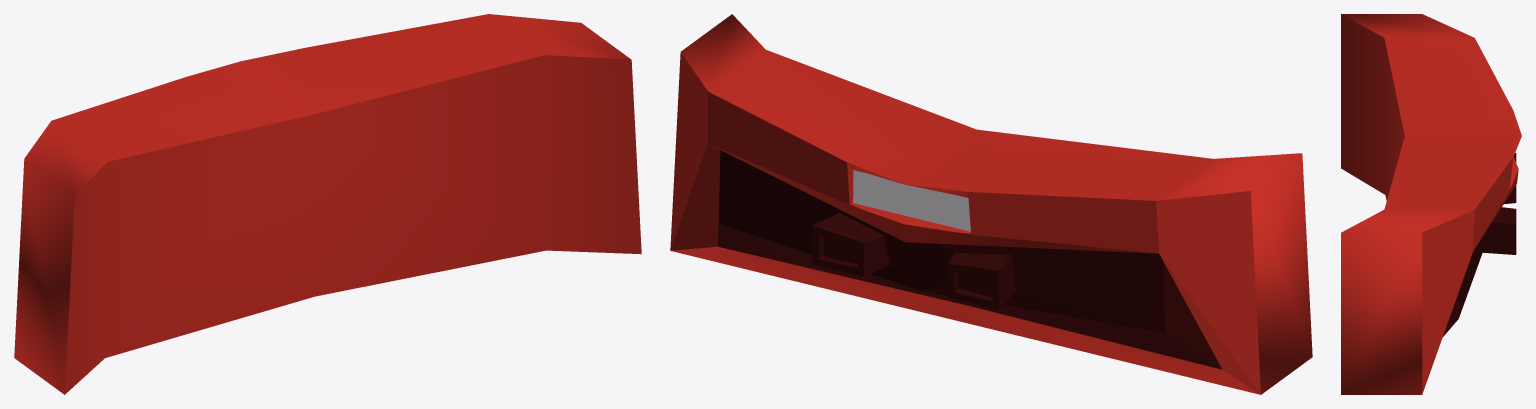
Rendered from bumper2.1.fbx.
3 views of the same model, side by side, from view 1: azimuth 30°, elevation 25°; view 2: azimuth 150°, elevation 25°; view 3: azimuth 270°, elevation 25° (orthographic). The views are drawn at different scales.
Visible parts, largest first — view 1: bumper; view 2: bumper; view 3: bumper.
Boxes of the visible parts, x1,y1,x2,y2 form: bumper: (14,14,641,394); bumper: (670,14,1312,394); bumper: (1341,14,1521,394).
Size of the model in its own units: 2.3 by 0.75 by 0.7761.
